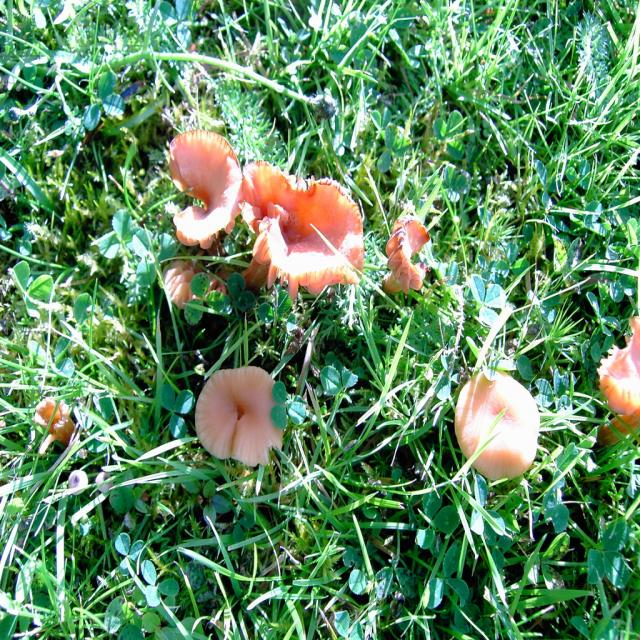Mushroom: (156, 127, 367, 311), (192, 369, 298, 485), (454, 368, 540, 482), (598, 318, 640, 447), (379, 212, 432, 301), (31, 396, 73, 454)
